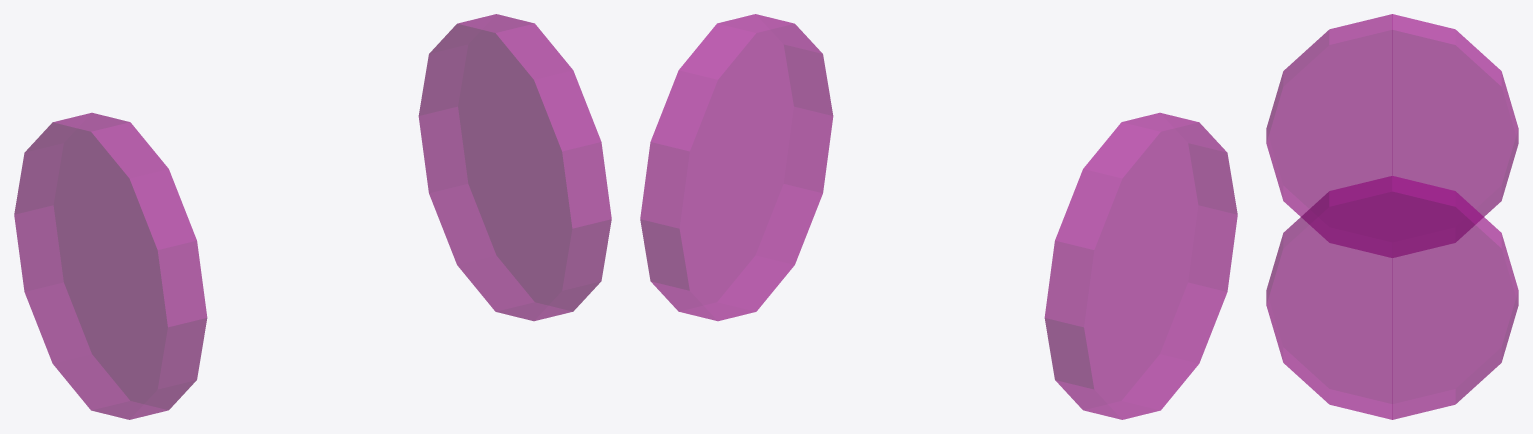
The model's file is SM_Veh_Wagon_Wheel_01_Collision.fbx.
3 renders of one model, left to right at view 1: azimuth 30°, elevation 25°; view 2: azimuth 150°, elevation 25°; view 3: azimuth 270°, elevation 25°, orthographic. The views are drawn at different scales.
Visible parts, largest first — view 1: SM_Veh_Wagon_Wheel_01_Collision; view 2: SM_Veh_Wagon_Wheel_01_Collision; view 3: SM_Veh_Wagon_Wheel_01_Collision.
Part boxes in pixels (bbox=[...]): SM_Veh_Wagon_Wheel_01_Collision: bbox=[14, 14, 611, 419]; SM_Veh_Wagon_Wheel_01_Collision: bbox=[640, 14, 1237, 419]; SM_Veh_Wagon_Wheel_01_Collision: bbox=[1266, 14, 1518, 419].
Bounding box in the file's own units: 235 × 141 × 141.
